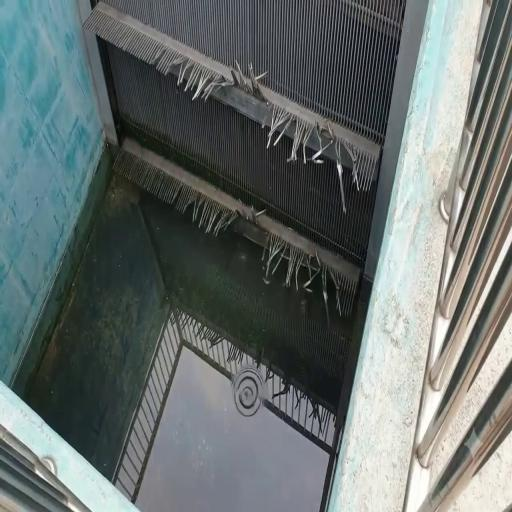rake_broken: (218, 50, 274, 111), (319, 122, 358, 200), (283, 106, 323, 169), (194, 54, 222, 117), (261, 100, 292, 154), (305, 247, 335, 301), (240, 194, 269, 248), (325, 265, 354, 317), (286, 235, 312, 292), (258, 218, 284, 274), (171, 46, 200, 92), (145, 37, 174, 81), (211, 198, 238, 239), (192, 188, 214, 234), (169, 179, 193, 216)
